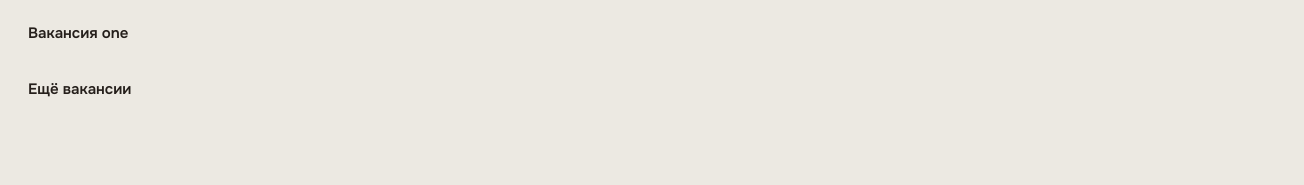
Test: pagination preserves prior choices on failure and retries the same cursor
Later steps or results of the test are not shown.
Expected: the button "Вакансия one" is shown, x1=12 y1=12 x2=1292 y2=56
Click the button "Ещё вакансии" at (80, 90), box x1=12 y1=68 x2=147 y2=112
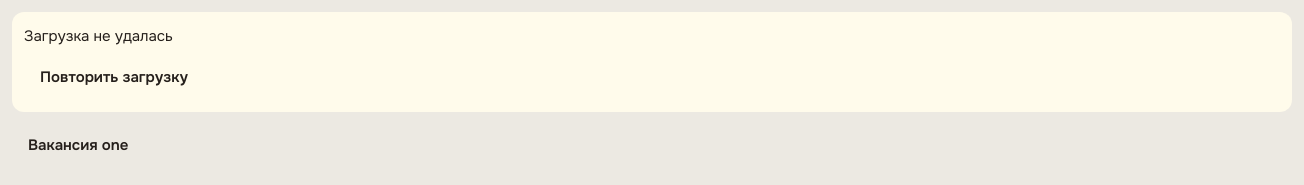
Expected: the button "Вакансия one" is shown, x1=12 y1=124 x2=1292 y2=168
Now the message "Загрузка не удалась Повторить загрузку" is shown, box x1=12 y1=12 x2=1292 y2=112
Click the button "Повторить загрузку" at (114, 78), box x1=24 y1=56 x2=204 y2=100
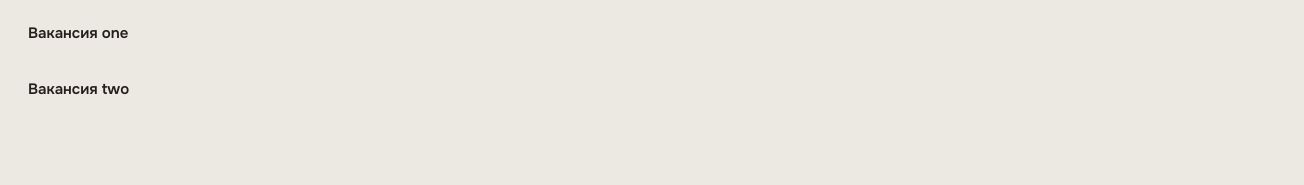
Expected: the button "Вакансия one" is shown, x1=12 y1=12 x2=1292 y2=56
Now the button "Вакансия two" is shown, box x1=12 y1=68 x2=1292 y2=112
